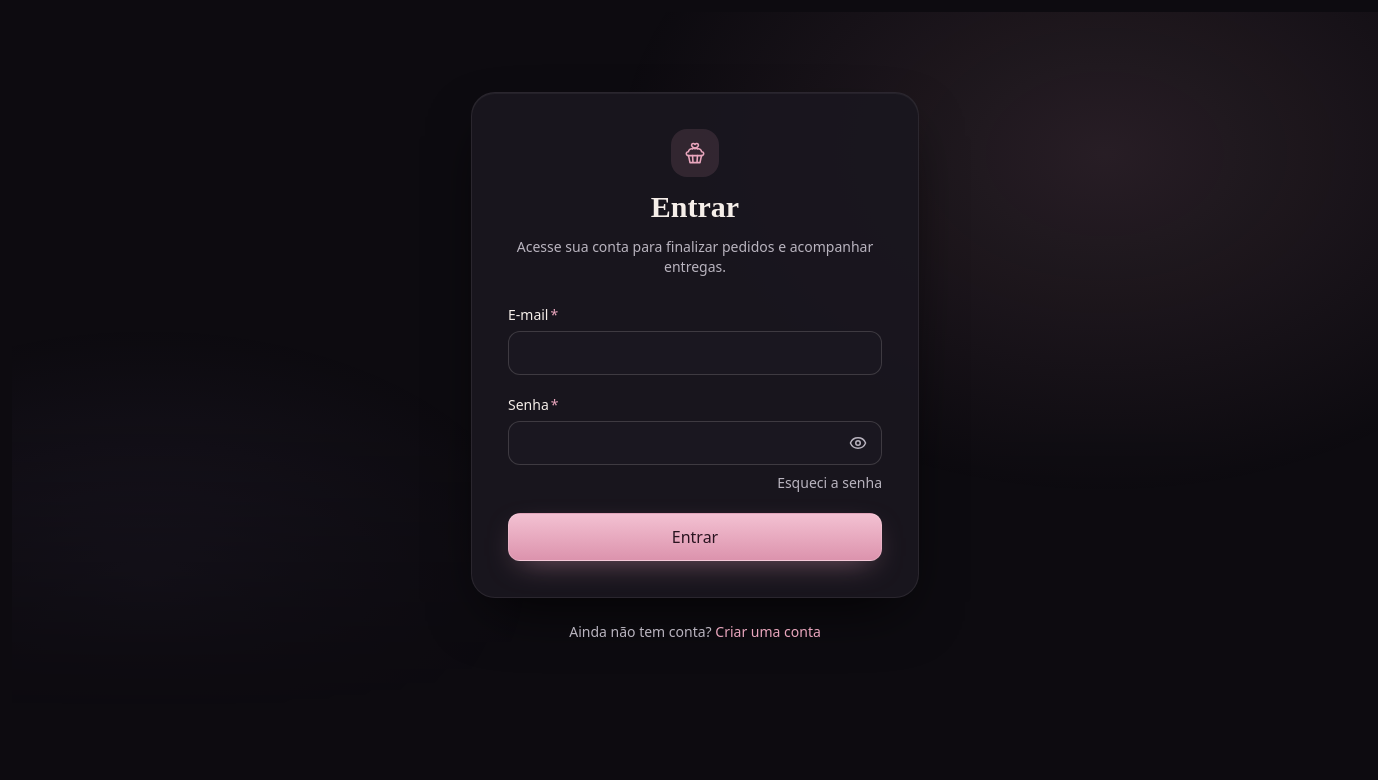
LoginPage › leva o administrador ao painel quando não há destino
Type "maria@example.com" into the field labelled "E-mail*". click: (695,353)
box: 508,331 -> 882,375
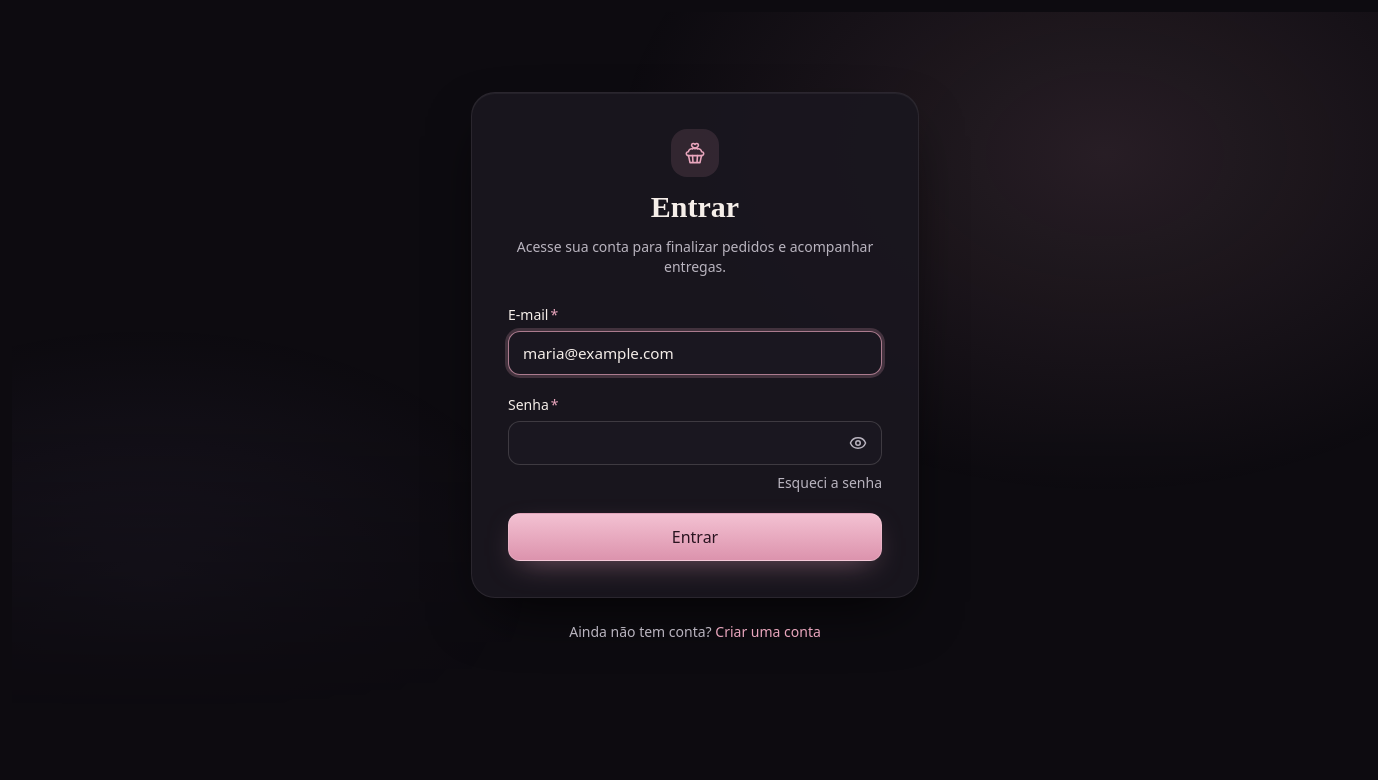
Type "cupcake2026" into the password field labelled "Senha*". click: (695,443)
box: 508,421 -> 882,465
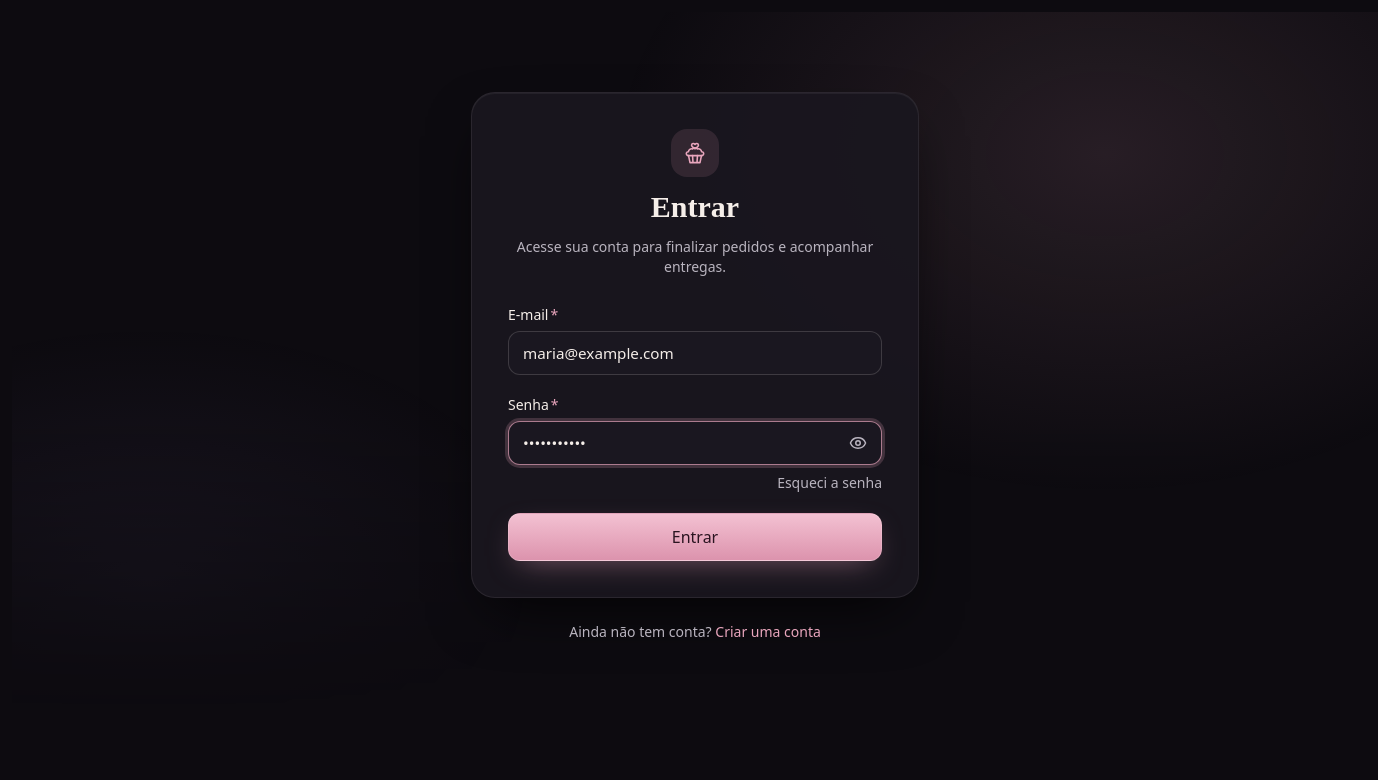
Click the button "Entrar". click: (695,537)
box: 508,513 -> 882,561
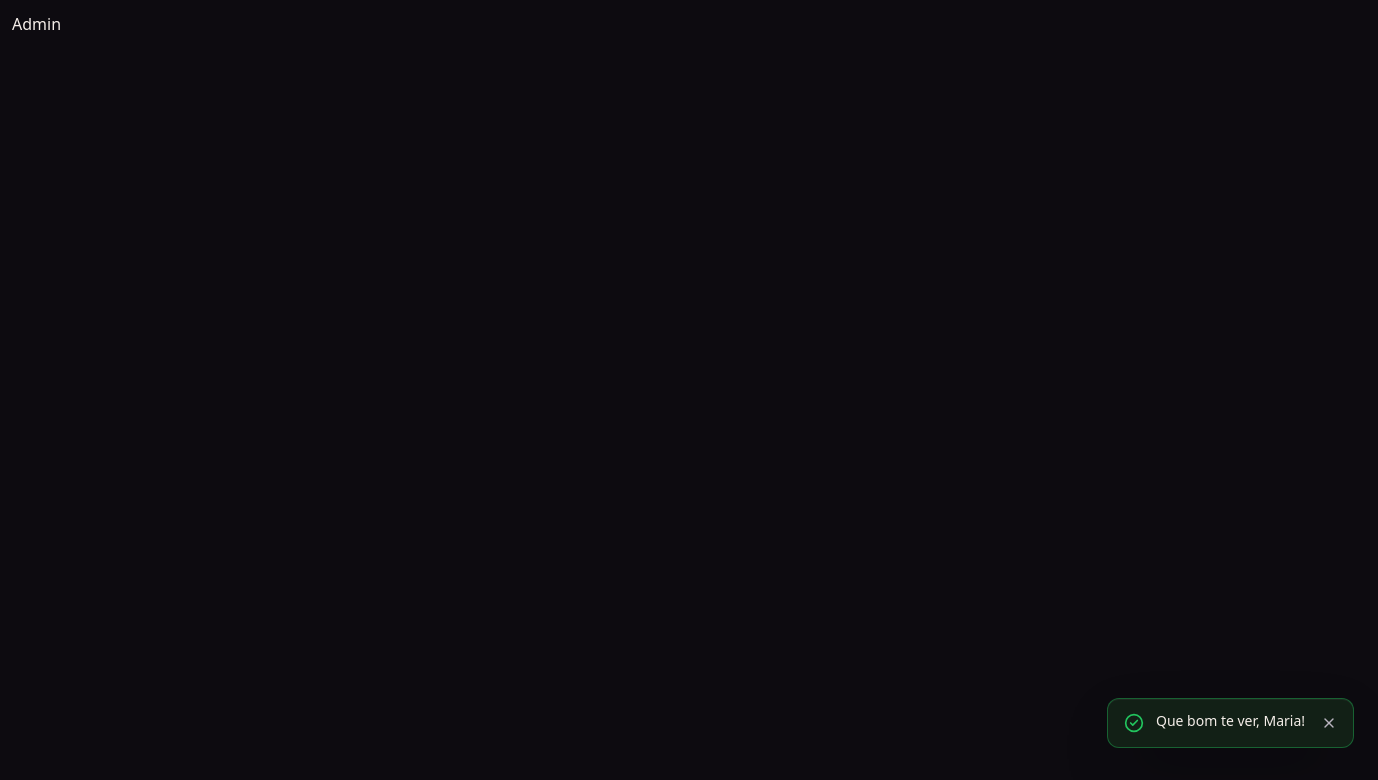
Check: the heading "Admin" is shown, box 12,13 -> 61,35
